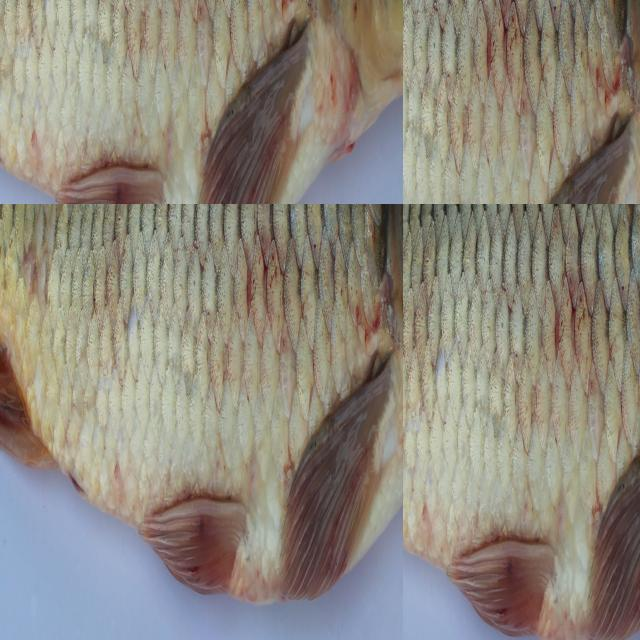fish: (403, 204, 640, 633)
